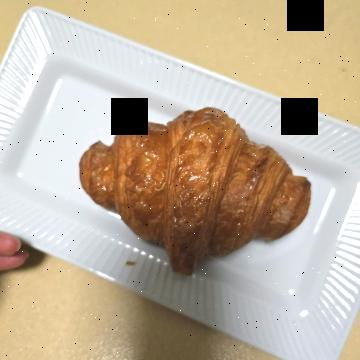croissant: (94, 35, 288, 290)
